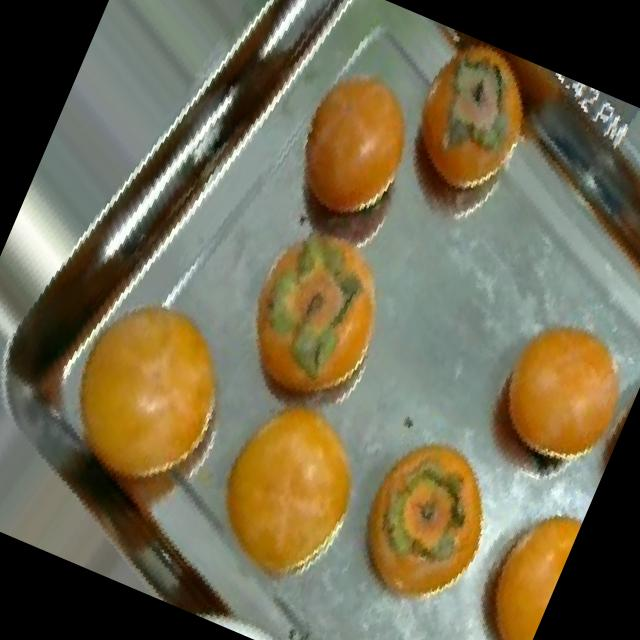Fruit: (23, 248, 279, 527), (158, 356, 406, 628), (312, 399, 532, 640), (244, 25, 458, 270), (352, 20, 566, 264), (450, 281, 640, 506), (420, 464, 591, 640)
